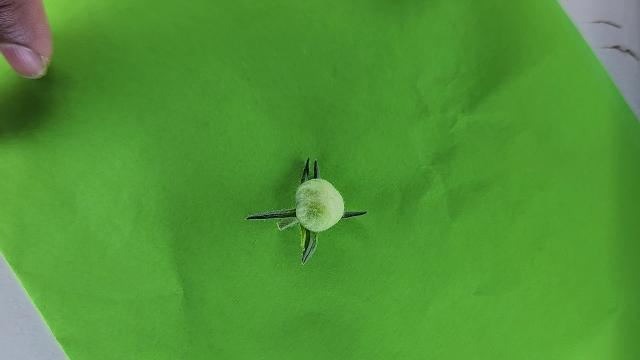Fruit Maturation: (293, 178, 345, 232)
